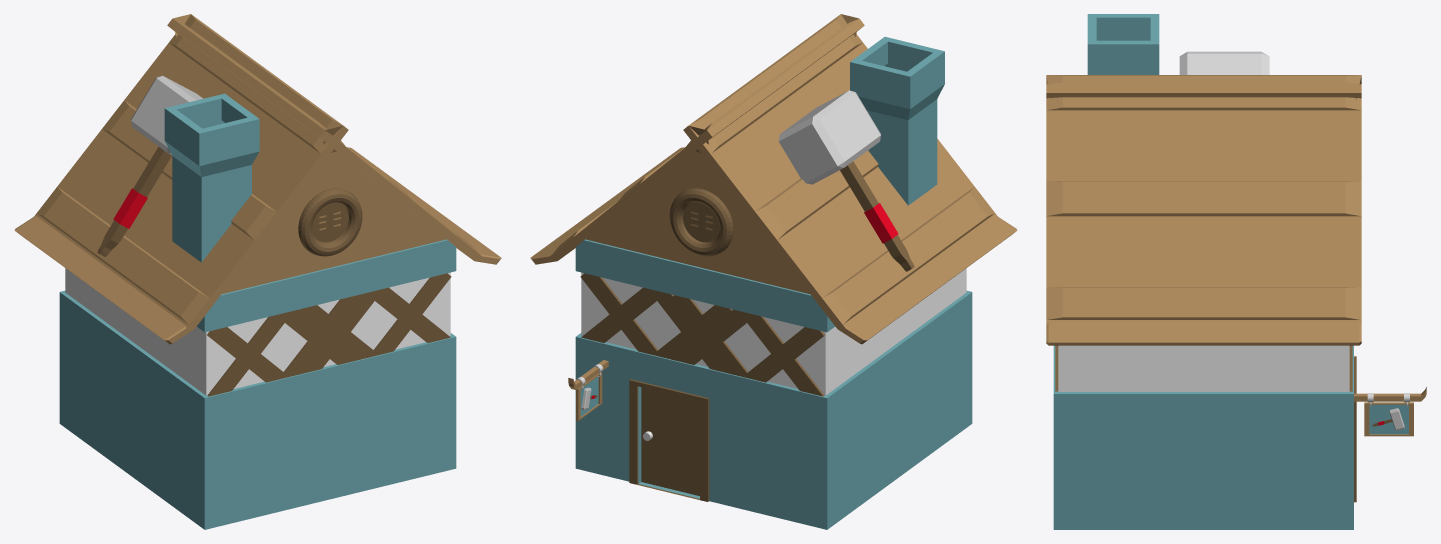
File: casa das tropas (construtor).fbx
3 views of the same model, side by side, from view 1: azimuth 30°, elevation 25°; view 2: azimuth 150°, elevation 25°; view 3: azimuth 270°, elevation 25° (orthographic). The views are drawn at different scales.
Parts seen in each view (by area): view 1: Cube, Cube.002, Torus, Cube.008, Cube.001, Cube.005; view 2: Cube.002, Cube, Torus, Cube.008, Cube.001, Cube.005; view 3: Cube.002, Cube, Cube.001, Cube.008, Cube.005, Cube.003, Torus, Cube.007, Cube.006.
Part boxes in pixels (x1,y1,x2,y2): Cube: (59,239,456,529); Cube.002: (14,14,501,344); Torus: (65,188,451,396); Cube.008: (164,93,259,262); Cube.001: (65,268,450,395); Cube.005: (97,75,203,257); Cube.002: (530,14,1017,344); Cube: (575,239,972,529); Torus: (580,188,966,501); Cube.008: (850,36,944,205); Cube.001: (581,268,966,395); Cube.005: (778,90,914,271); Cube.002: (1046,75,1361,345); Cube: (1053,345,1353,529); Cube.001: (1058,345,1349,391); Cube.008: (1087,14,1159,74); Cube.005: (1179,51,1269,74); Cube.003: (1369,404,1408,434); Torus: (1055,345,1356,502); Cube.007: (1364,402,1413,436); Cube.006: (1354,387,1426,401).
Bounding box in the file's own units: 268 × 290 × 253.
